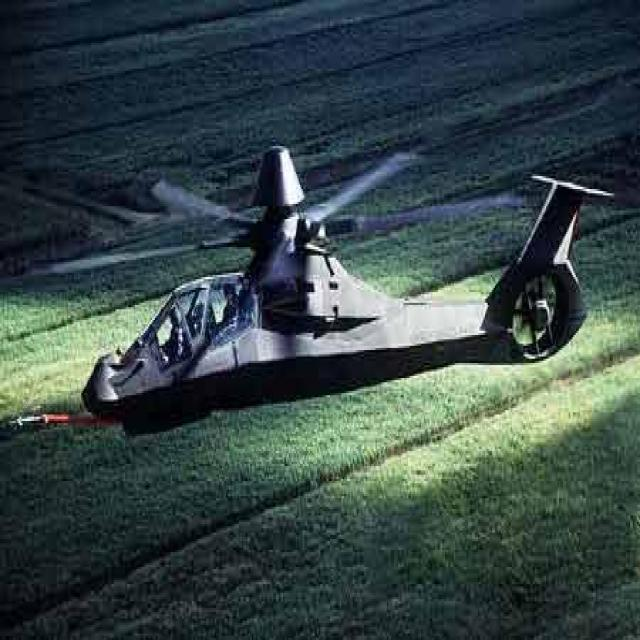MIL_HELO: (48, 128, 624, 446)
